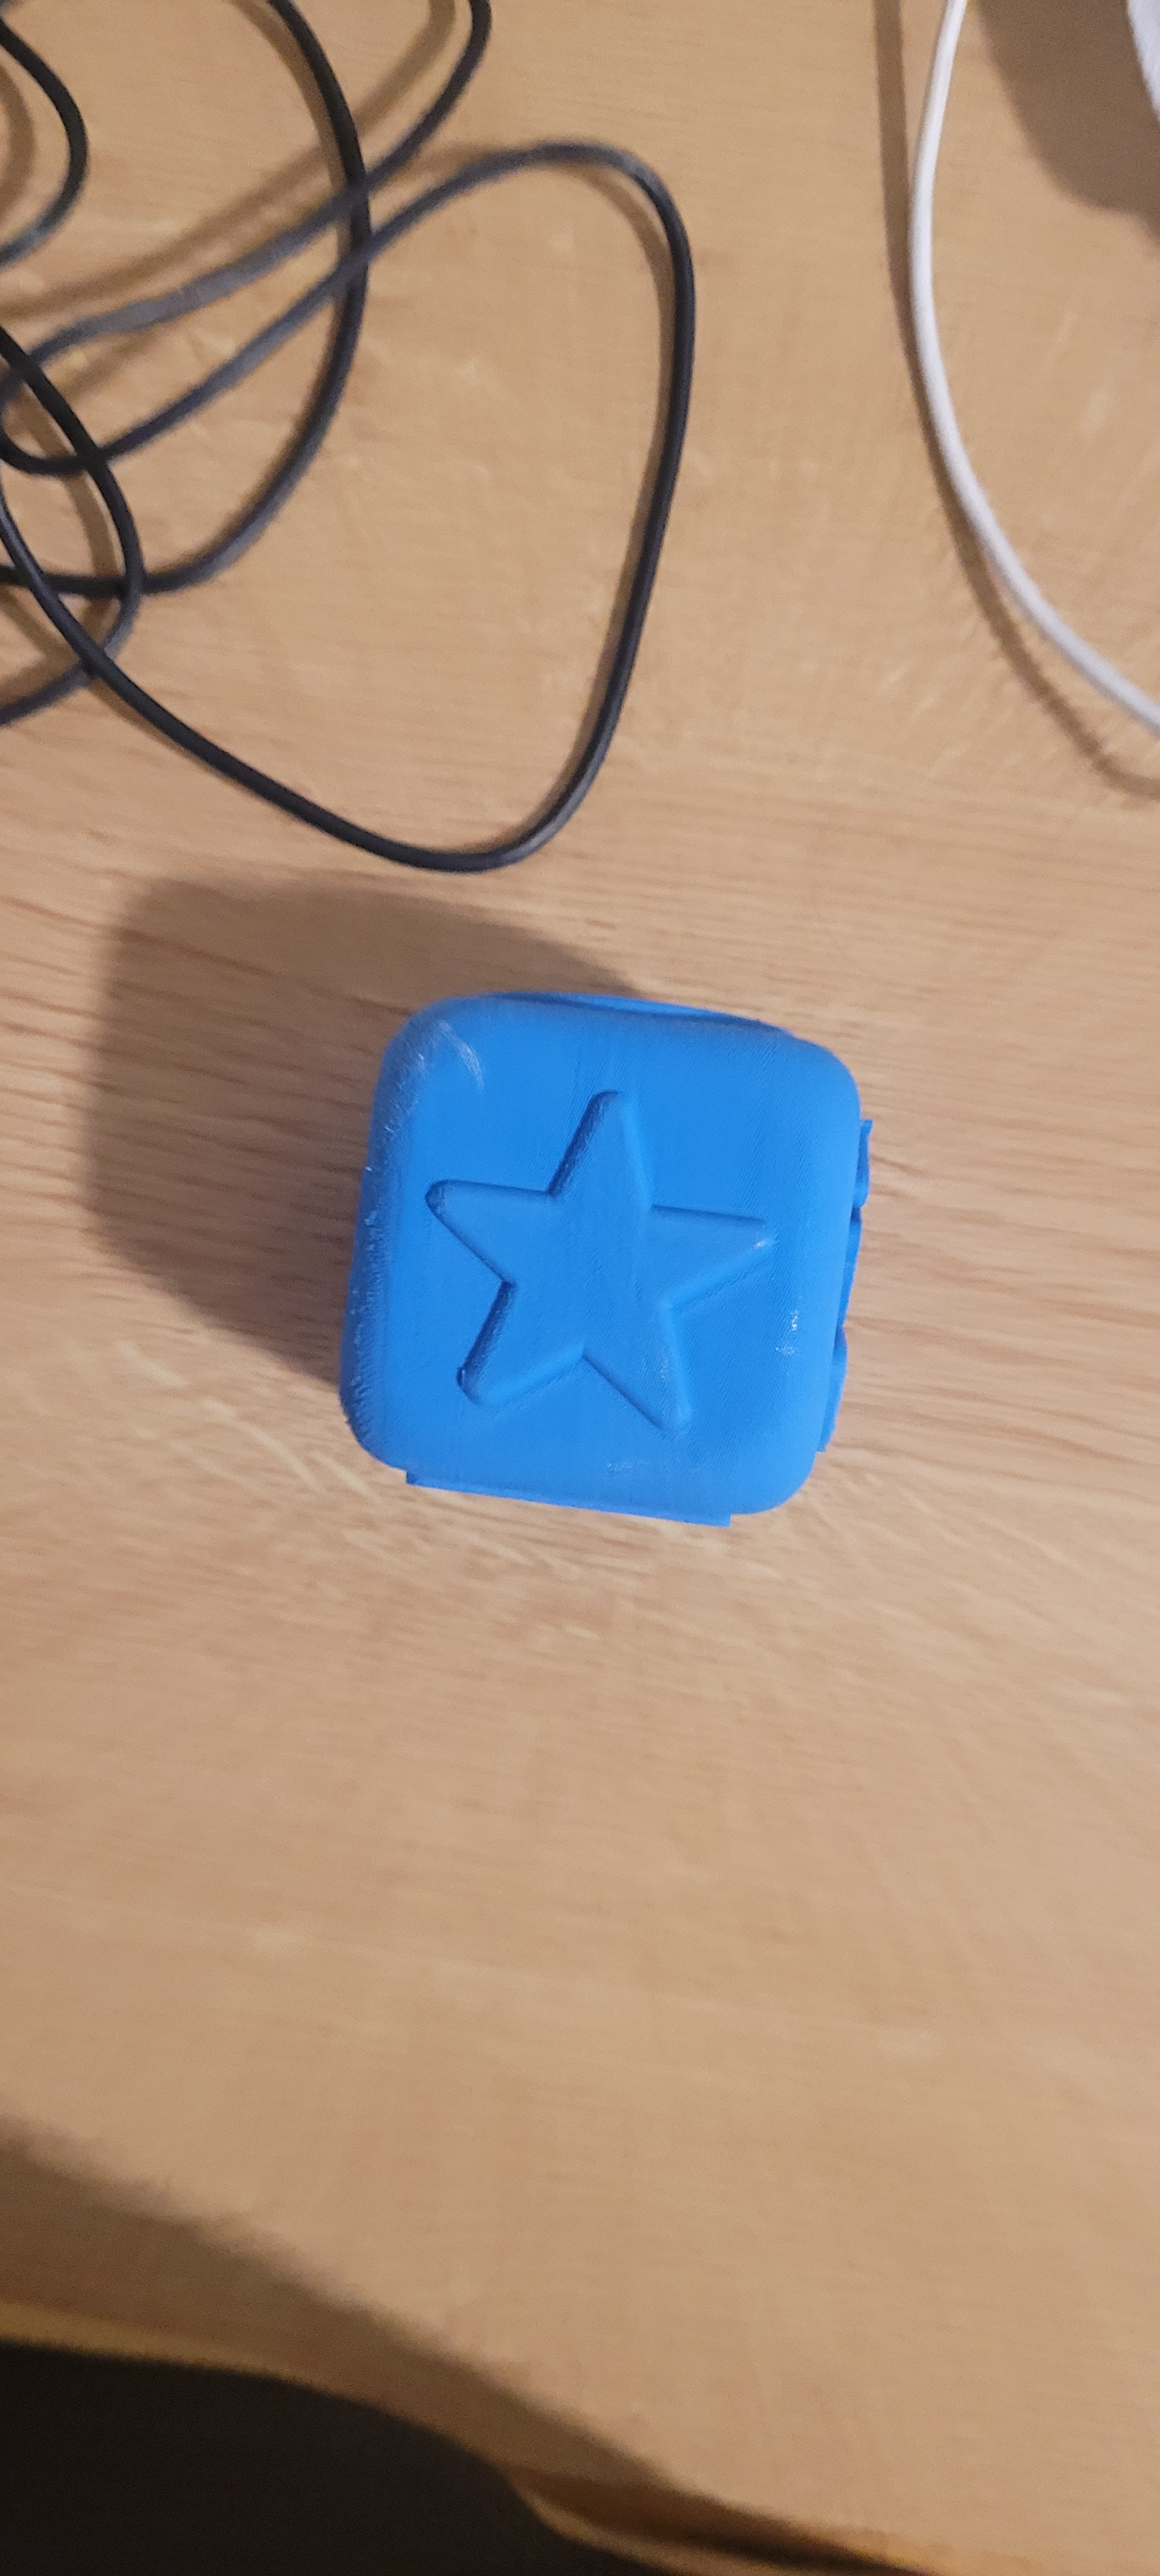Star: (407, 1024, 784, 1470)
